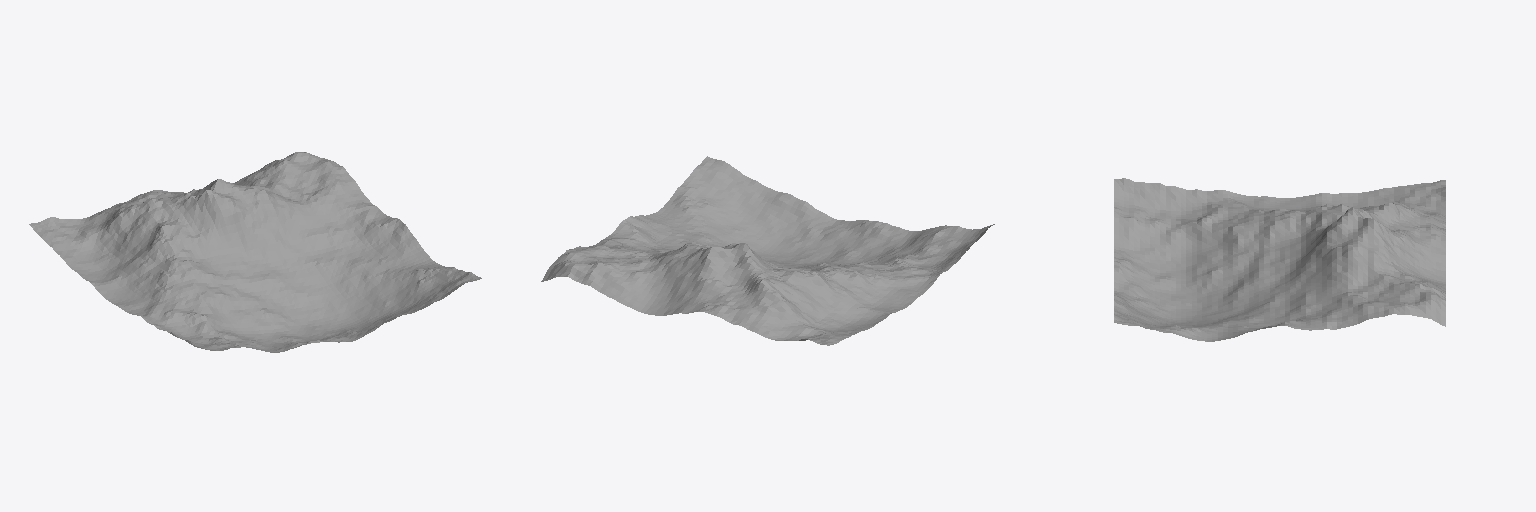
The model's file is terrain.obj.
3 renders of one model, left to right at view 1: azimuth 30°, elevation 25°; view 2: azimuth 150°, elevation 25°; view 3: azimuth 270°, elevation 25°, orthographic.
Parts seen in each view (by area): view 1: terrain.001_terrain-geom; view 2: terrain.001_terrain-geom; view 3: terrain.001_terrain-geom.
Boxes of the visible parts, box(x1,y1,x2,y2) form: terrain.001_terrain-geom: box(29, 152, 481, 352); terrain.001_terrain-geom: box(541, 156, 994, 345); terrain.001_terrain-geom: box(1114, 178, 1445, 341).
Bounding box in the file's own units: 30.48 × 8.62 × 30.48.